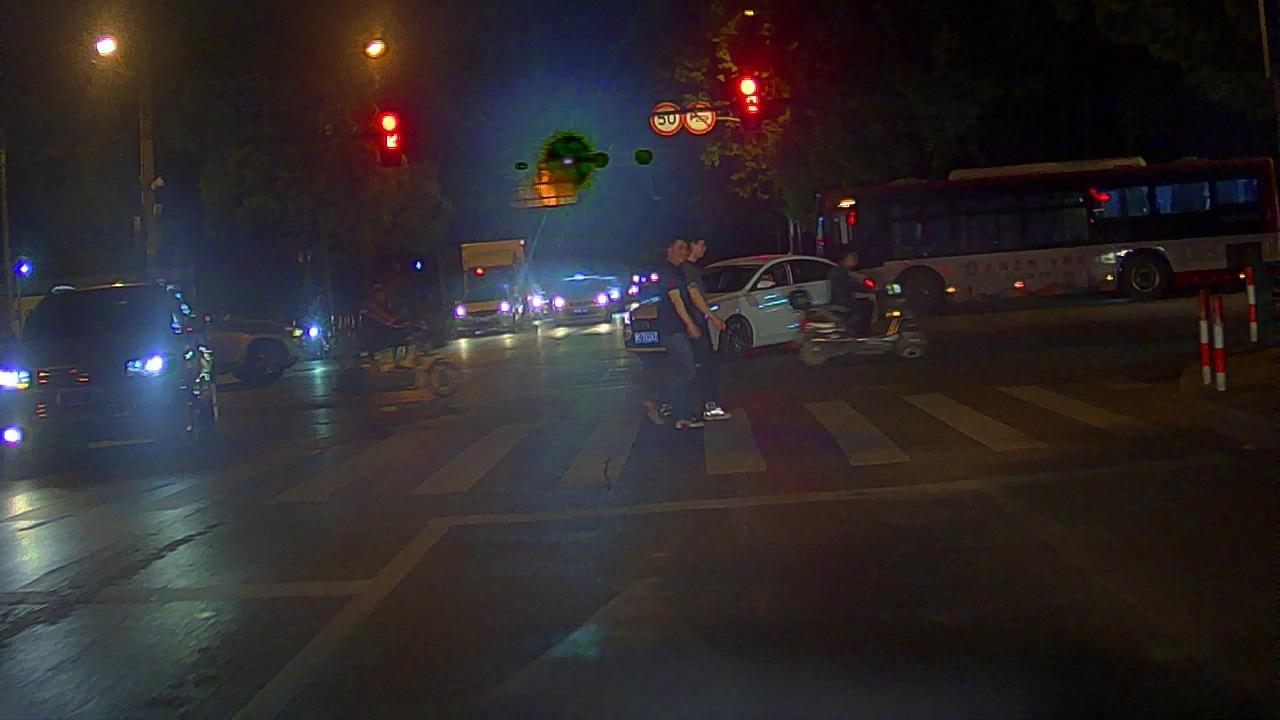traffic_light: (374, 111, 401, 165), (735, 73, 761, 127)
